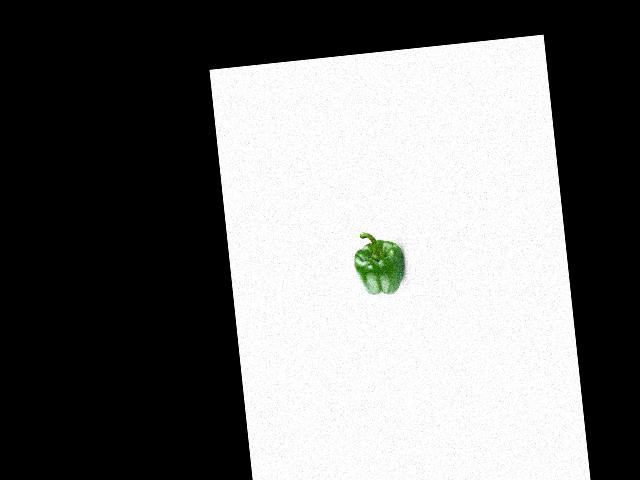bell_pepper: (350, 227, 406, 299)
